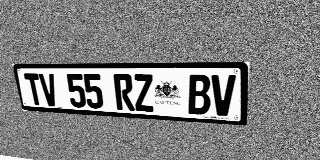5: (83, 74, 104, 109), (66, 74, 87, 108)
B: (187, 74, 210, 115)
R: (113, 74, 135, 111)
T: (23, 73, 44, 106)
V: (211, 75, 236, 116), (38, 73, 59, 106)
Z: (132, 74, 155, 112)
